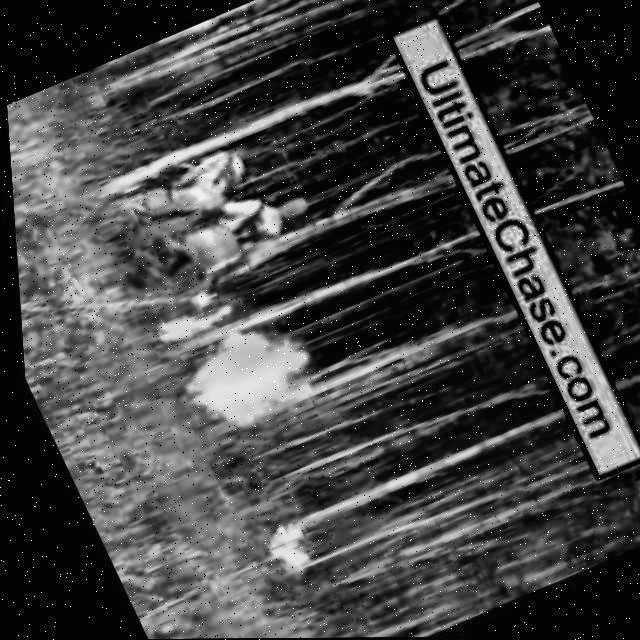Fire: (163, 309, 324, 441), (141, 278, 240, 354), (256, 521, 311, 576)
